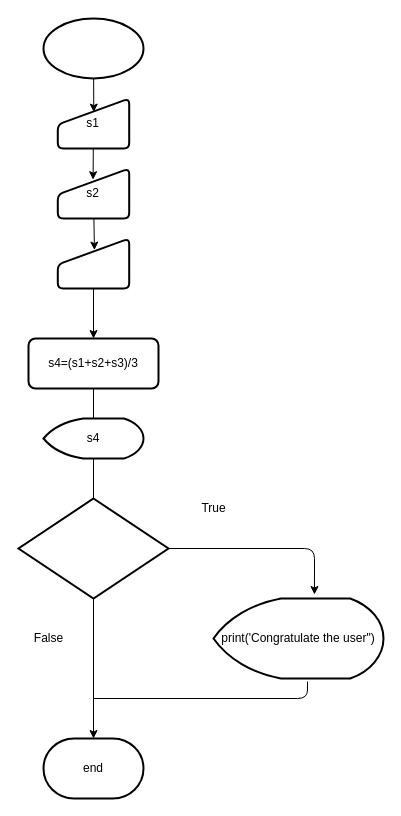
The diagram is 401 pixels wide and 816 high, and some of its shapes have lost their labels. The shapes that lost their labels are listed below. From the top down, each one's box as (x1, y1, x2, y2) in pixels, then its label:
(42, 17, 144, 79): Start
(56, 237, 130, 289): s3
(17, 497, 169, 599): s4 > 95
